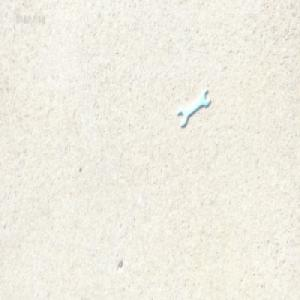Wrench: (177, 90, 208, 126)
